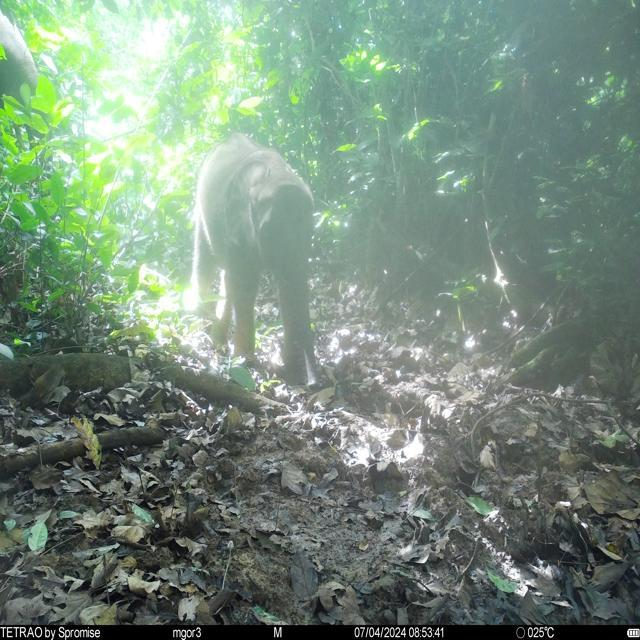calf: (186, 132, 319, 389)
